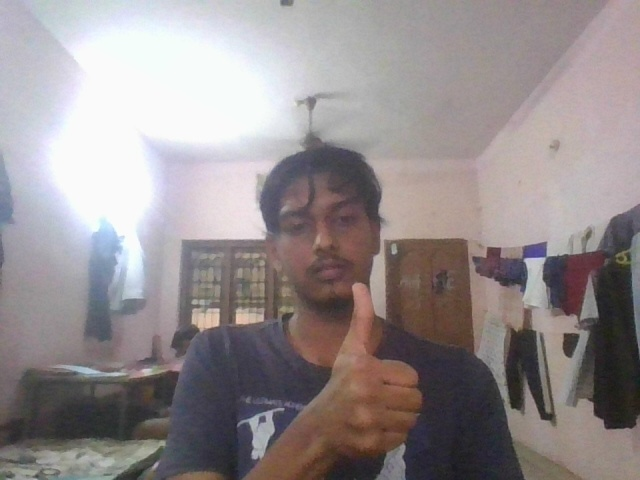thumbsup: (313, 280, 423, 470)
